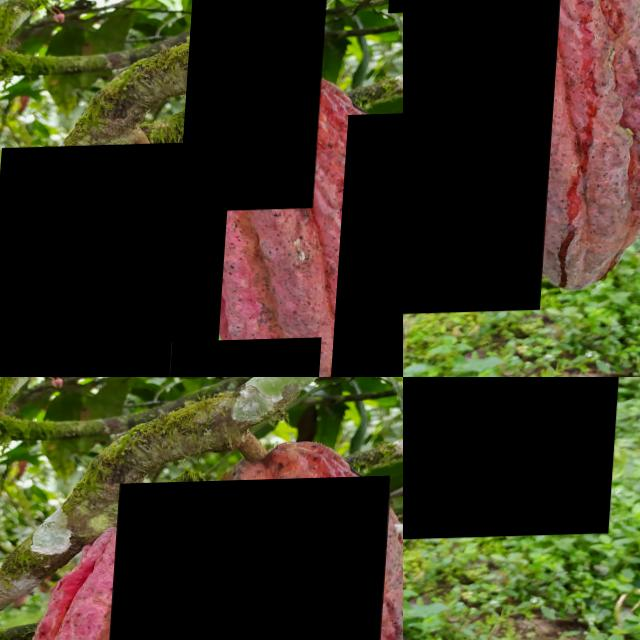Fitoftora: (0, 143, 234, 377), (403, 0, 566, 317)
Sana: (102, 478, 393, 640), (403, 377, 636, 542), (181, 0, 328, 213), (335, 113, 403, 377)
